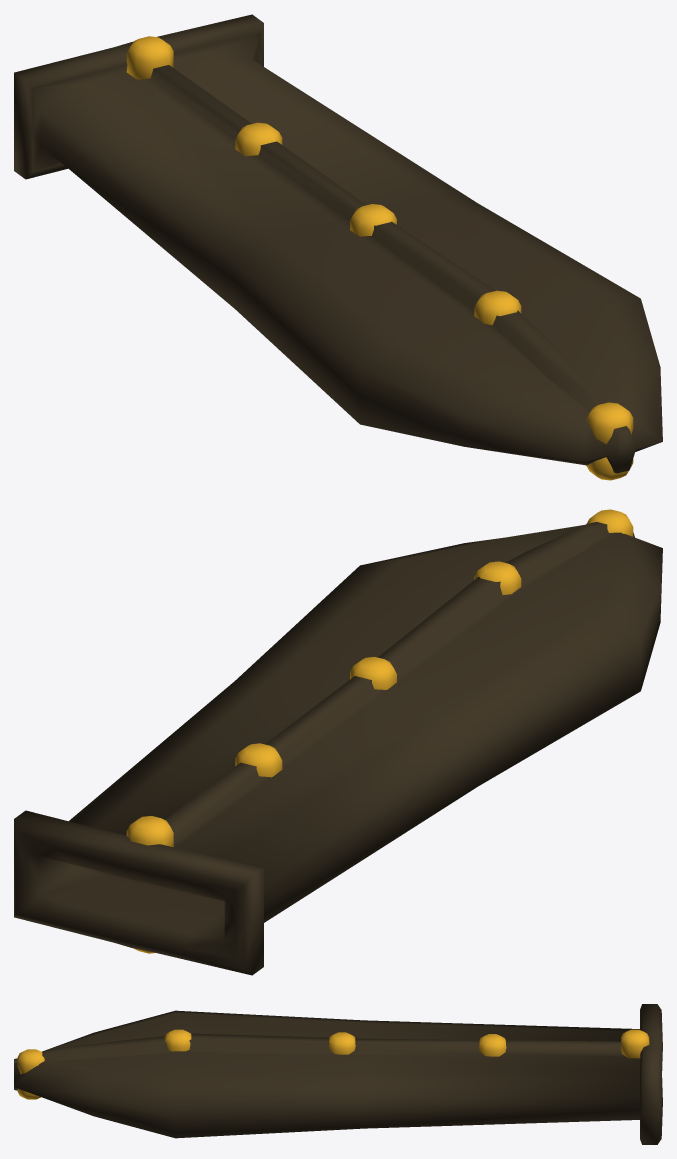
The model's file is swordhilt.fbx.
3 renders of one model, top to bottom at view 1: azimuth 30°, elevation 25°; view 2: azimuth 150°, elevation 25°; view 3: azimuth 270°, elevation 25°, orthographic. The views are drawn at different scales.
Parts seen in each view (by area): view 1: Plane.003; view 2: Plane.003; view 3: Plane.003.
Boxes of the visible parts, left/top/right/bottom form: Plane.003: left=14, top=14, right=662, bottom=480; Plane.003: left=14, top=509, right=662, bottom=975; Plane.003: left=14, top=1004, right=662, bottom=1144.
Size of the model in its own units: 317 by 136 by 966.
